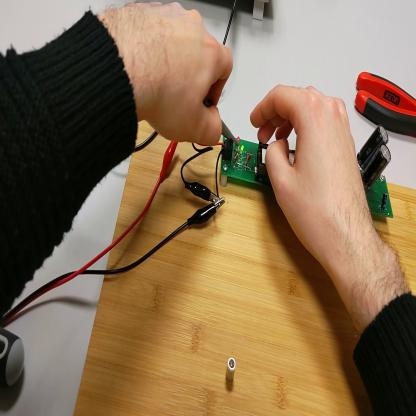hand: (249, 82, 375, 284), (119, 2, 236, 147)
high voltage board: (216, 126, 393, 219)
oscilloscope: (248, 4, 270, 22)
oscilloscope probe tip: (221, 116, 239, 147)
pliers: (356, 66, 416, 138)
screwdriver-: (2, 325, 25, 398)
working area: (74, 121, 416, 416)
